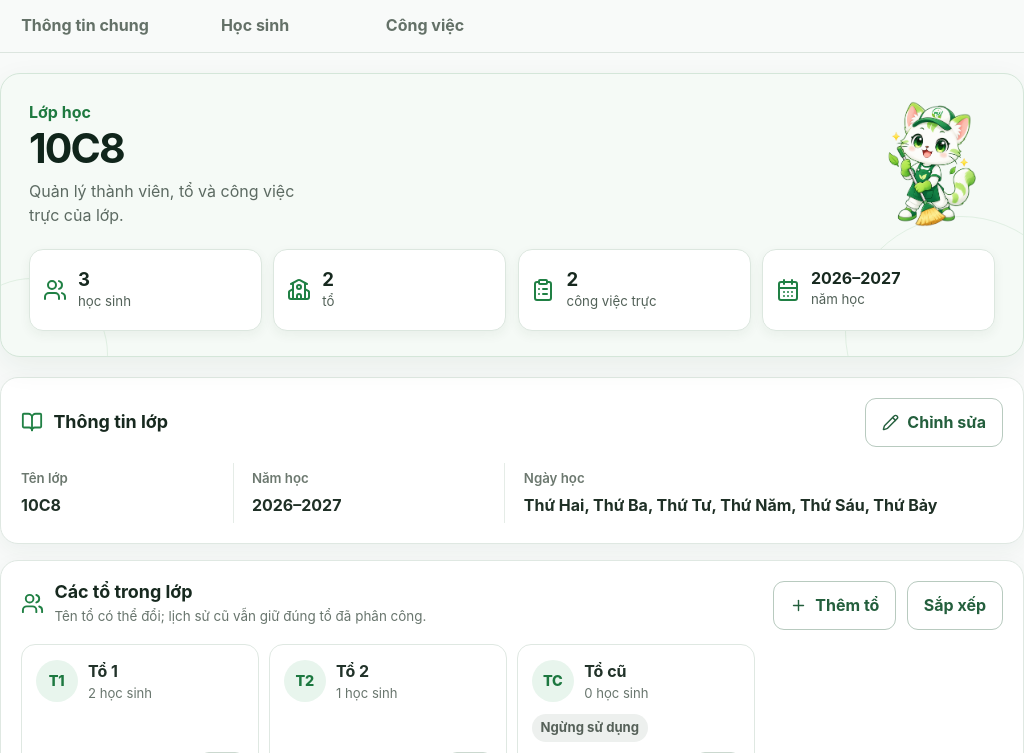
it: ClassroomPage › builds the class hub from live classroom, student and task data
The image size is (1024, 753).
Expected: the heading "10C8" is shown, x1=29 y1=123 x2=124 y2=173
Expected: the element with class "class-hub-hero" is shown, x1=0 y1=73 x2=1023 y2=357
What coordinates should you click on to do the following:
click the button "Chỉnh sửa"
I would click on:
 (934, 422)
Its box is x1=865 y1=398 x2=1003 y2=446.
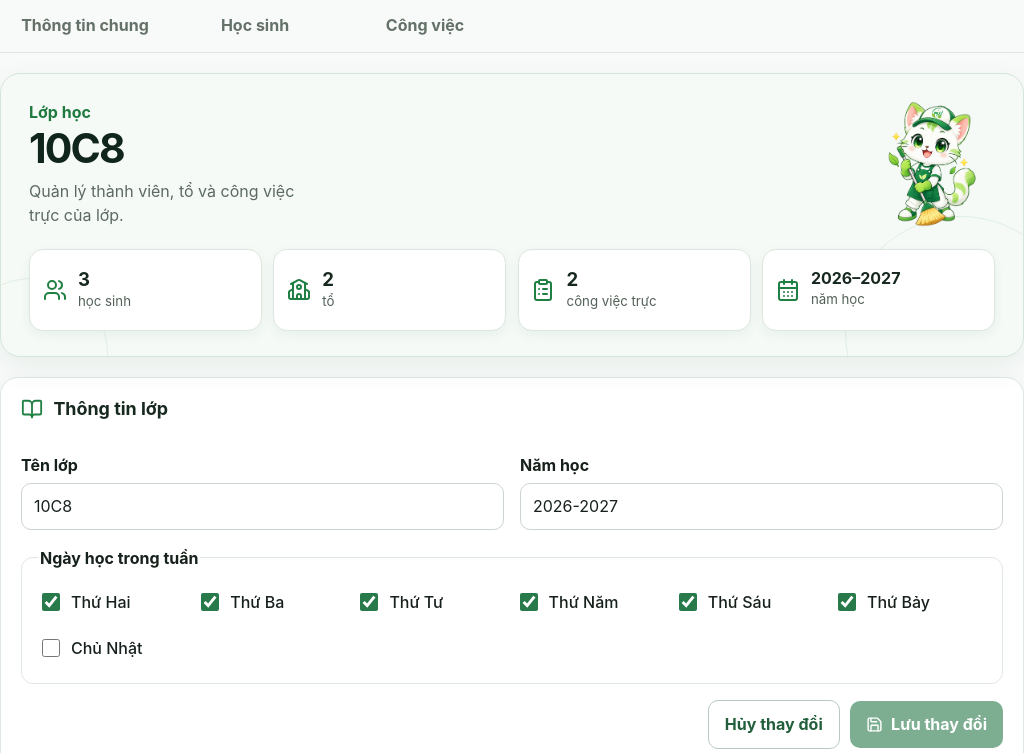
Now the field labelled "Tên lớp" holds "10C8", box x1=21 y1=483 x2=504 y2=530
Now the field labelled "Năm học" holds "2026-2027", box x1=520 y1=483 x2=1003 y2=530
